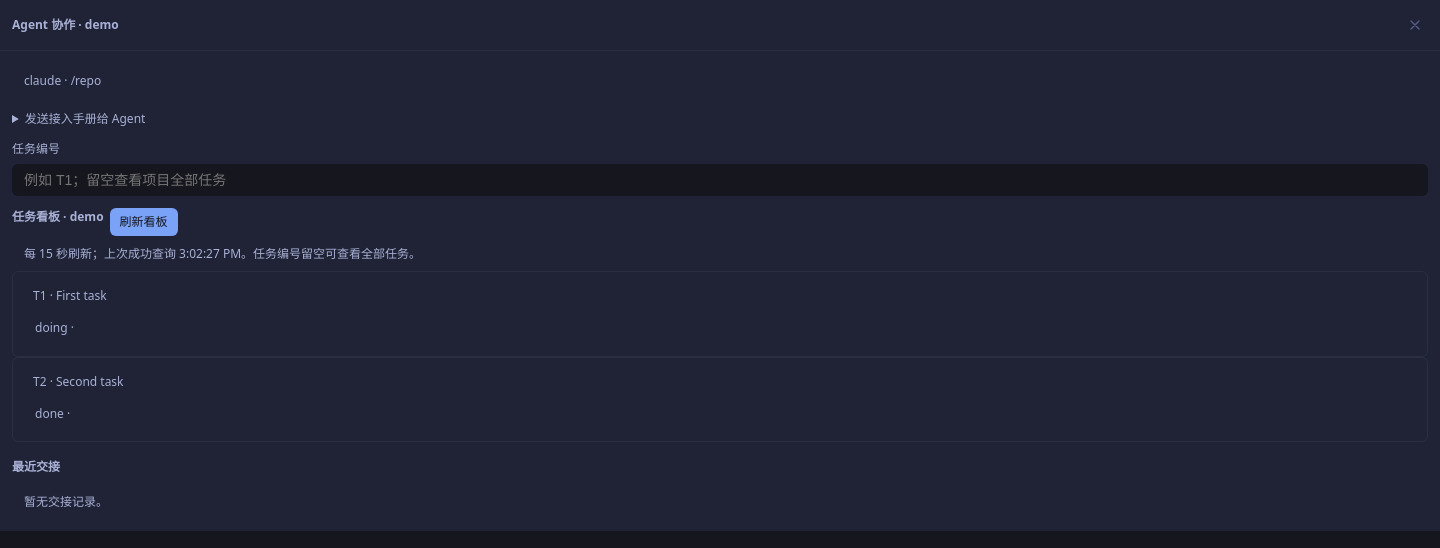
optional collaboration › queries a local project's board and filters task status by code
This screenshot has width=1440, height=548.
Expected: the button "T2 · Second task" is shown, [23,368,134,396]
Type "t1" into the field labelled "任务编号" at (720, 180), box [12,164,1428,196]
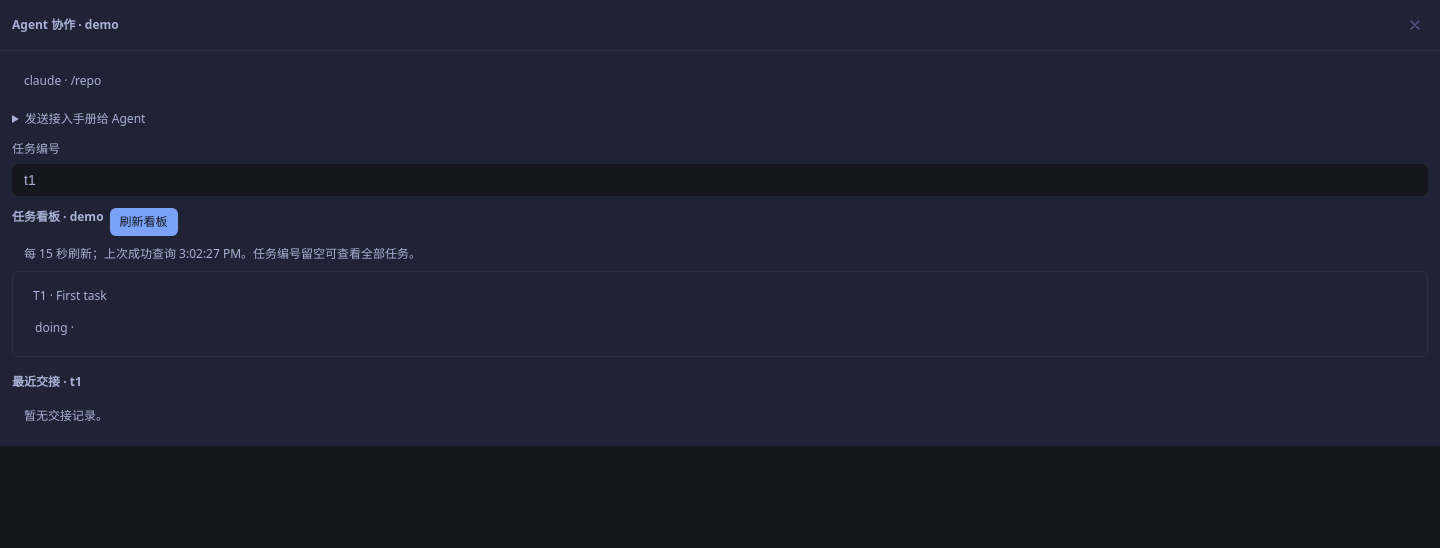
Expected: the button "T1 · First task" is shown, [23,282,117,310]
Now the button "T2 · Second task" is gone
